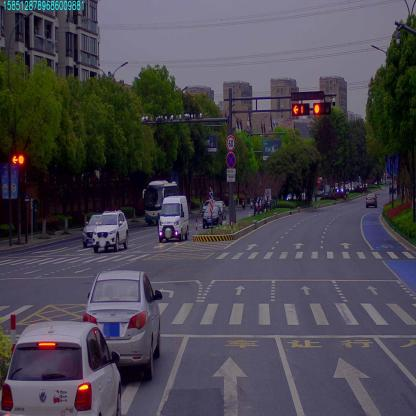traffic-light: (314, 103, 333, 117), (291, 104, 308, 116)
